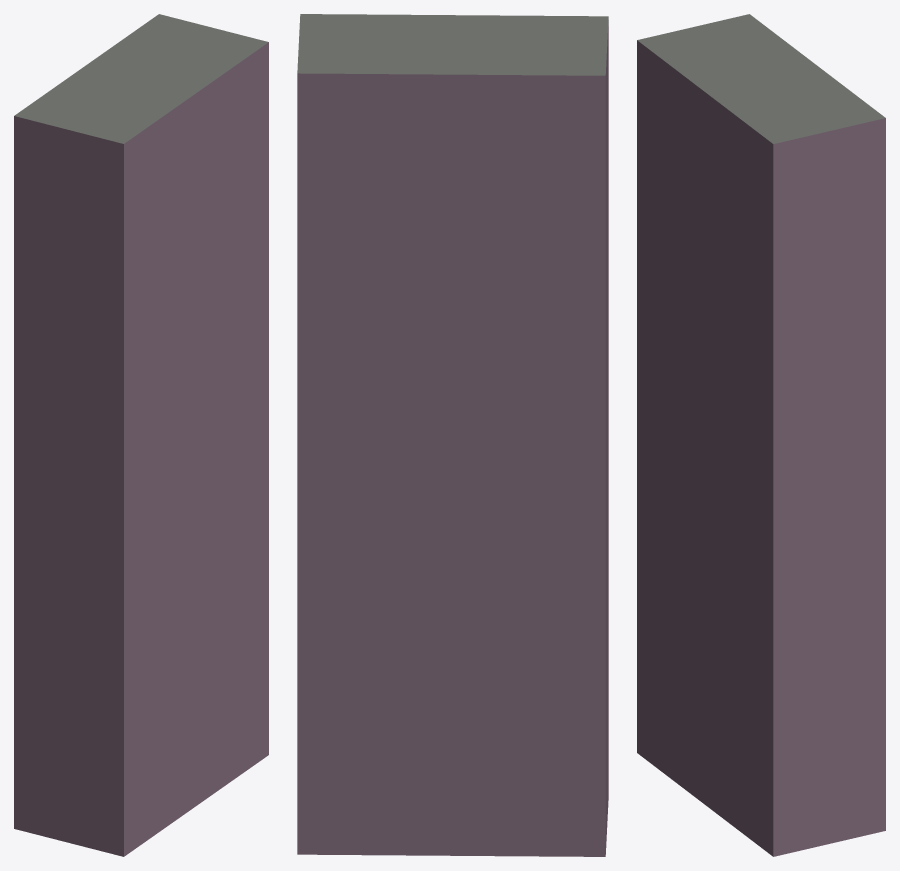
File: nyc-1090451-0.glb
3 renders of one model, left to right at view 1: azimuth 30°, elevation 25°; view 2: azimuth 150°, elevation 25°; view 3: azimuth 270°, elevation 25°, orthographic. The views are drawn at different scales.
Parts seen in each view (by area): view 1: nyc-1090451-0; view 2: nyc-1090451-0; view 3: nyc-1090451-0.
Boxes of the visible parts, bbox=[...] form: nyc-1090451-0: bbox=[14, 14, 268, 856]; nyc-1090451-0: bbox=[297, 14, 608, 856]; nyc-1090451-0: bbox=[637, 14, 885, 856].
Size of the model in its own units: 29.37 by 74.98 by 23.73.
